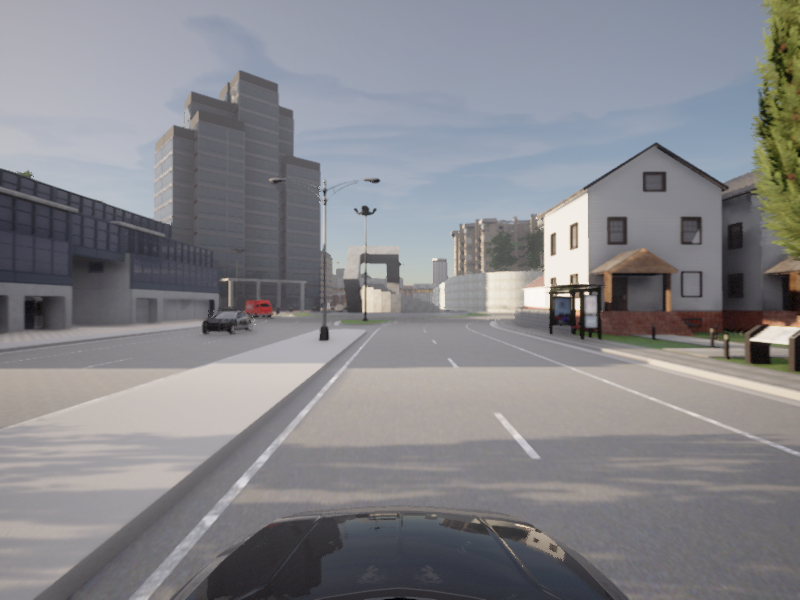vehicle: (0, 0, 799, 596), (195, 308, 255, 336)
